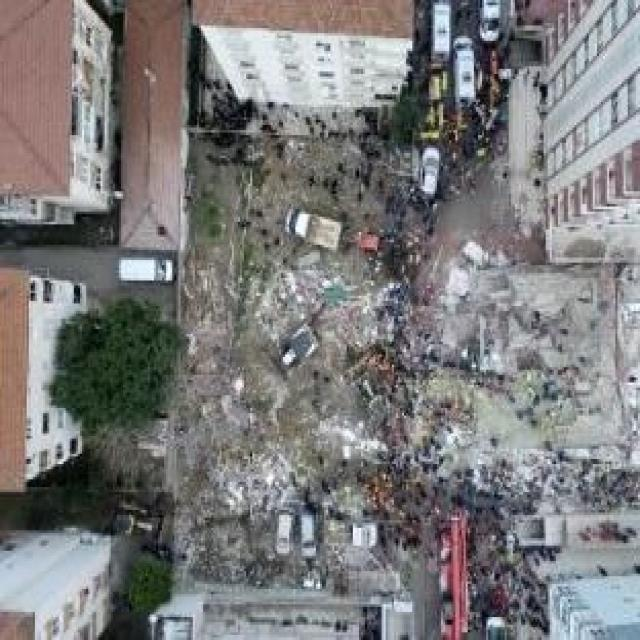collapsed_building: (185, 132, 392, 518), (451, 263, 638, 469)
